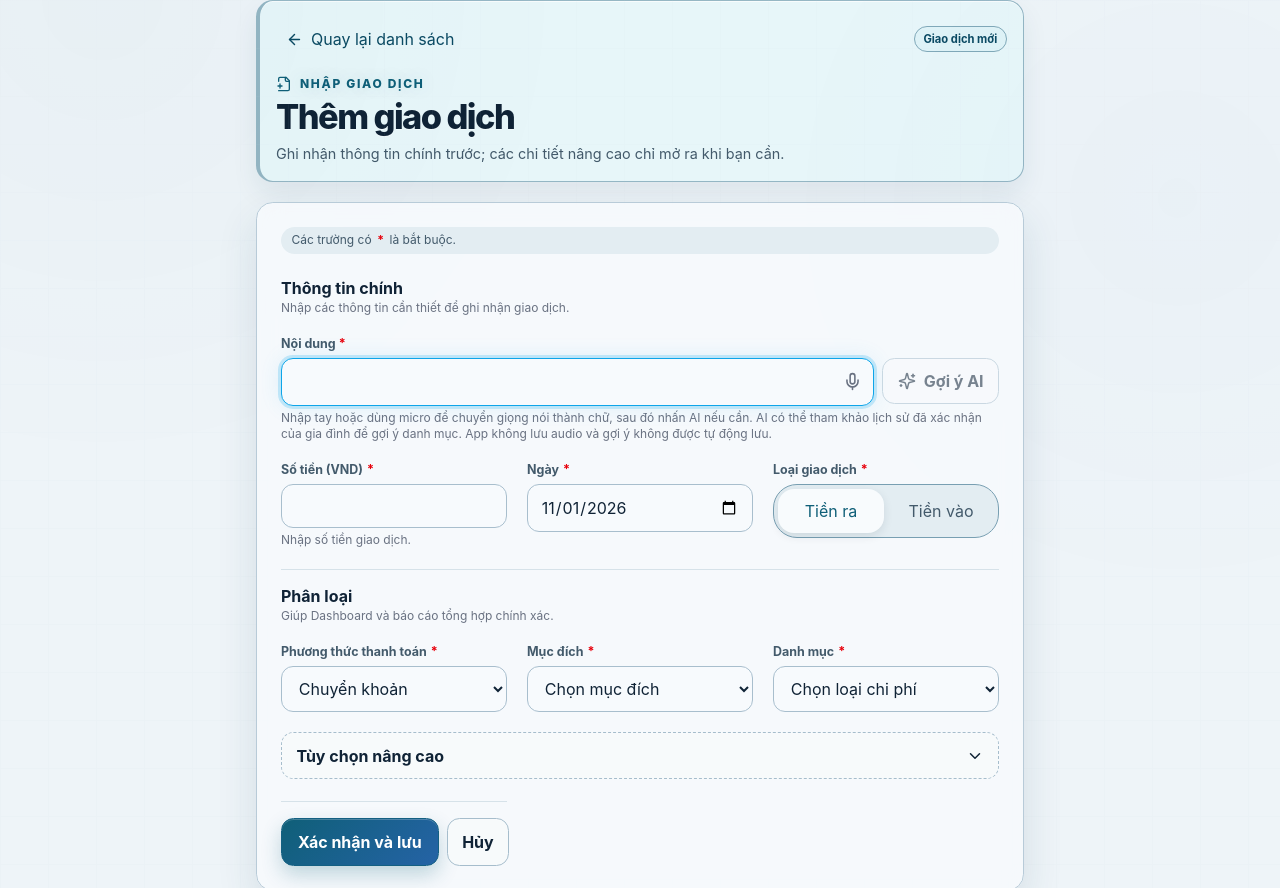
Test: Form giao dịch hợp nhất › AI gợi ý Thẻ tín dụng thì giao dịch mới vẫn là dự kiến
This screenshot has width=1280, height=888.
Step 1. Type "Mua điện thoại trả góp" into the field labelled "Nội dung *" → {"x": 578, "y": 382}, box left=281, top=358, right=874, bottom=406
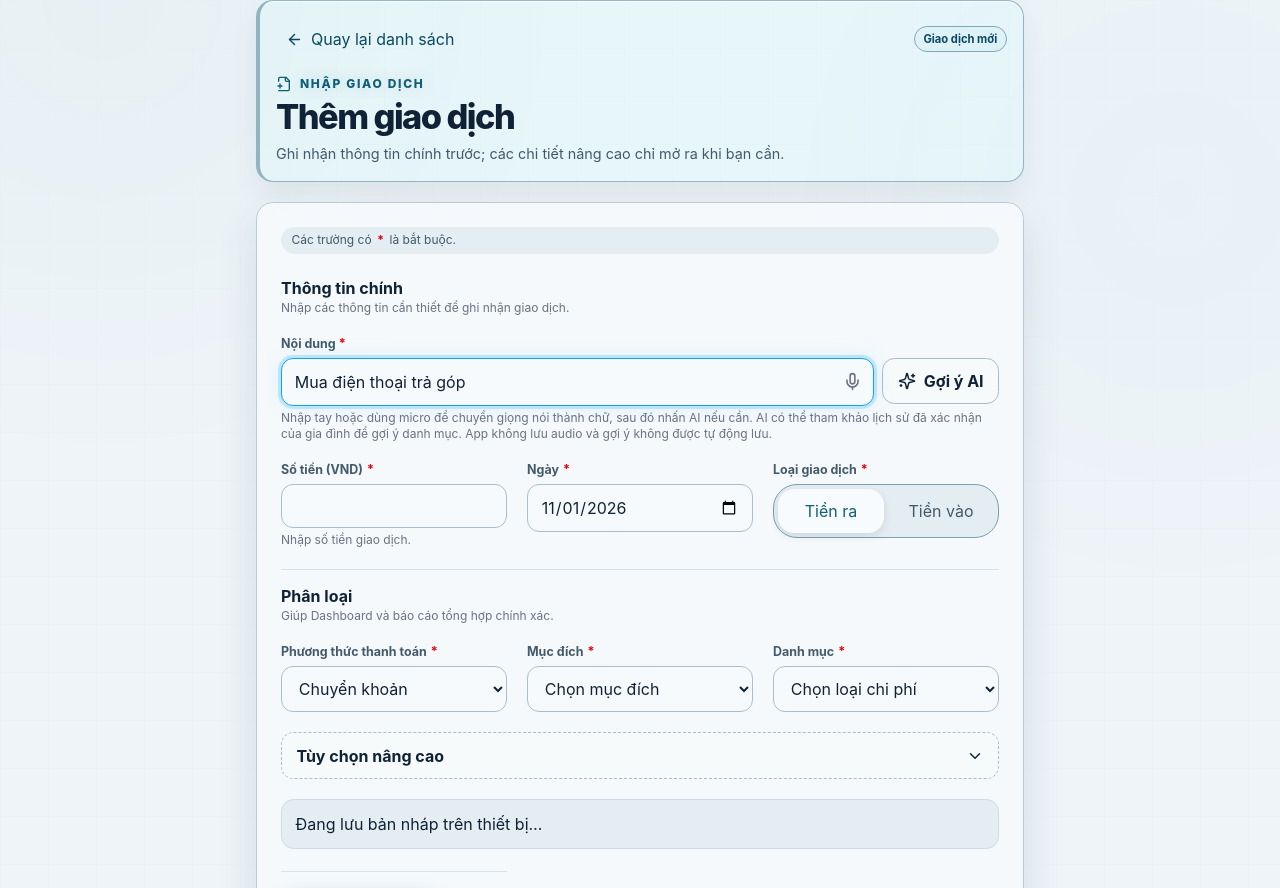
Step 2. Click the button with aria-label "Phân tích nội dung bằng AI" → {"x": 941, "y": 381}, box left=882, top=358, right=999, bottom=404
(page scrolled)
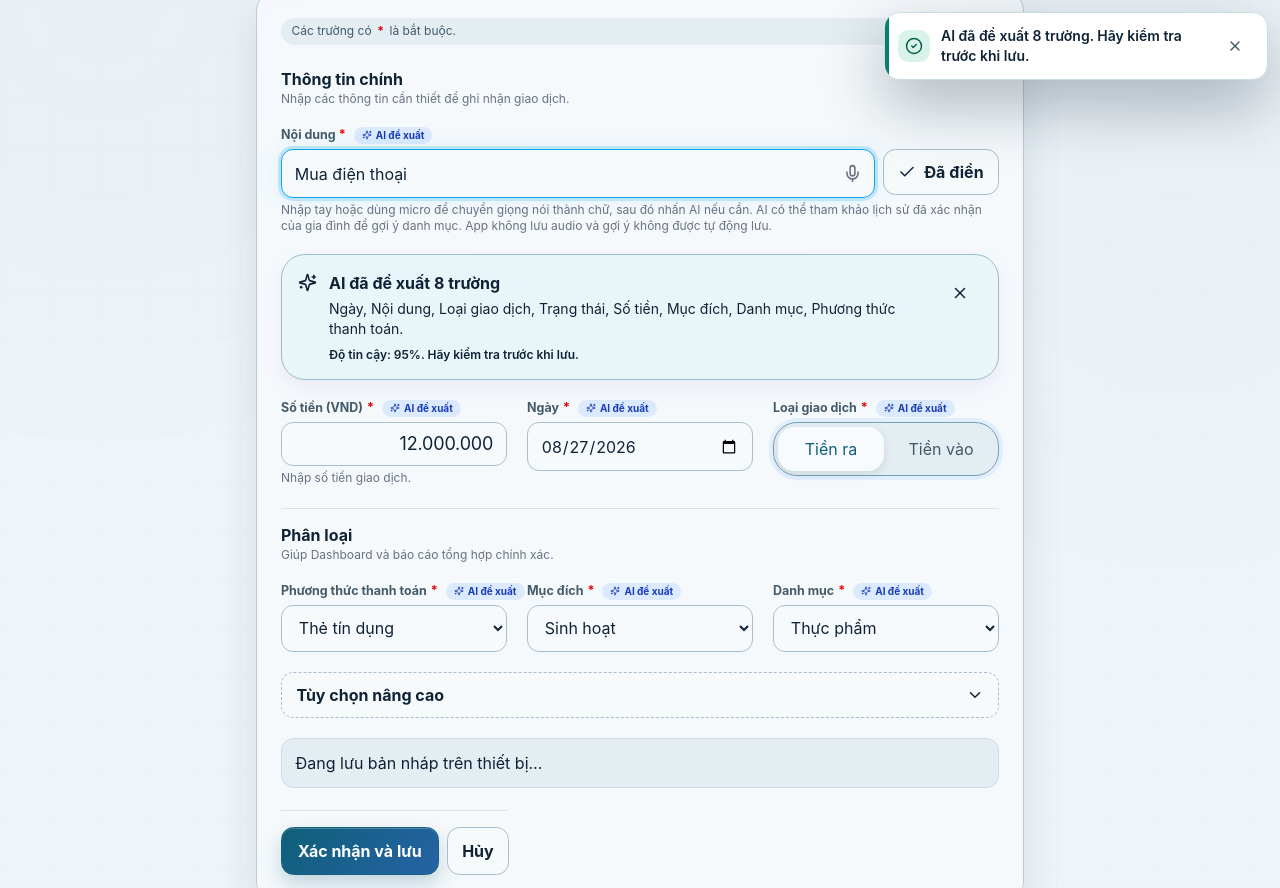
Expected: the text "AI đã đề xuất 8 trường" is shown, left=329, top=273, right=500, bottom=293
Step 3. Click the button "Tùy chọn nâng cao" → {"x": 370, "y": 695}, box left=281, top=672, right=999, bottom=718
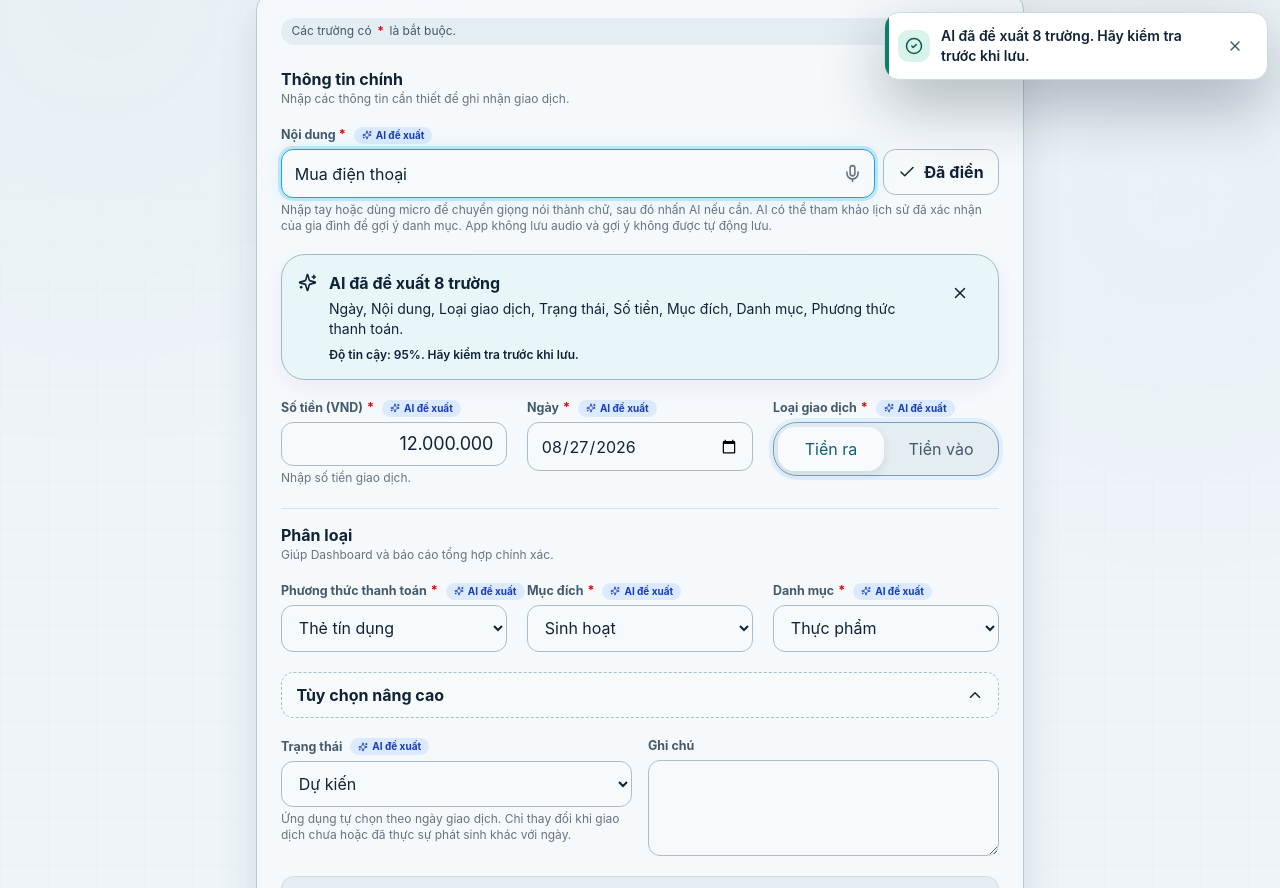
Expected: the dropdown labelled "Trạng thái AI đề xuất" shows "Dự kiến", left=281, top=761, right=632, bottom=807
